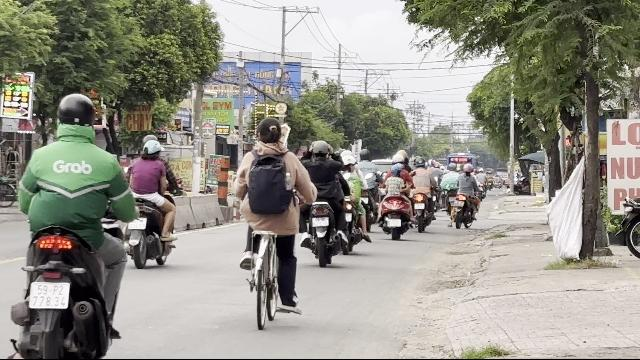helmet: (54, 93, 98, 142), (140, 137, 162, 159), (310, 140, 330, 160)
licenseplate: (29, 282, 69, 308), (129, 218, 147, 228), (312, 218, 328, 226)
motorcyclist: (6, 92, 136, 358), (123, 136, 179, 268), (302, 139, 348, 265)
